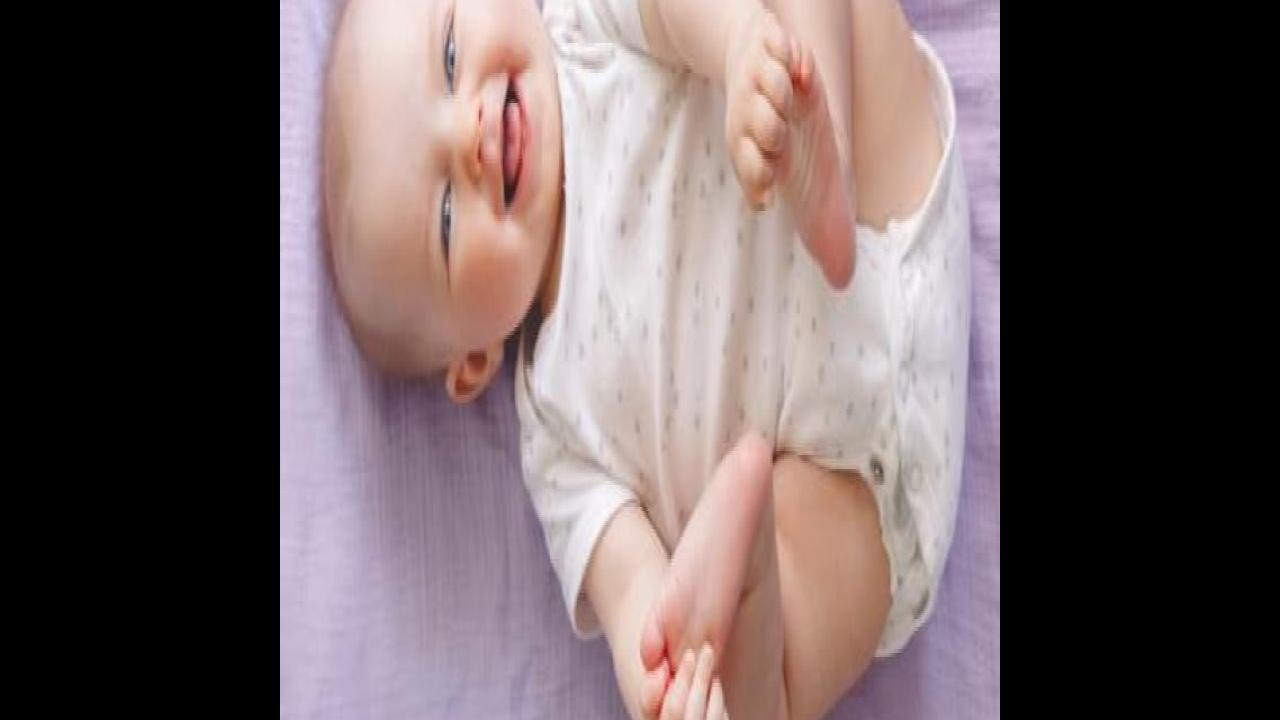hand: (724, 0, 800, 212), (635, 636, 733, 720)
